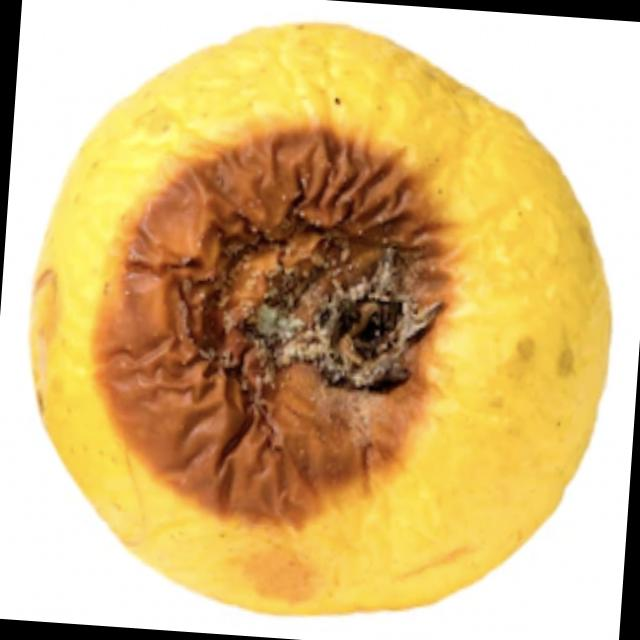rotten_apple: (12, 2, 632, 628)
